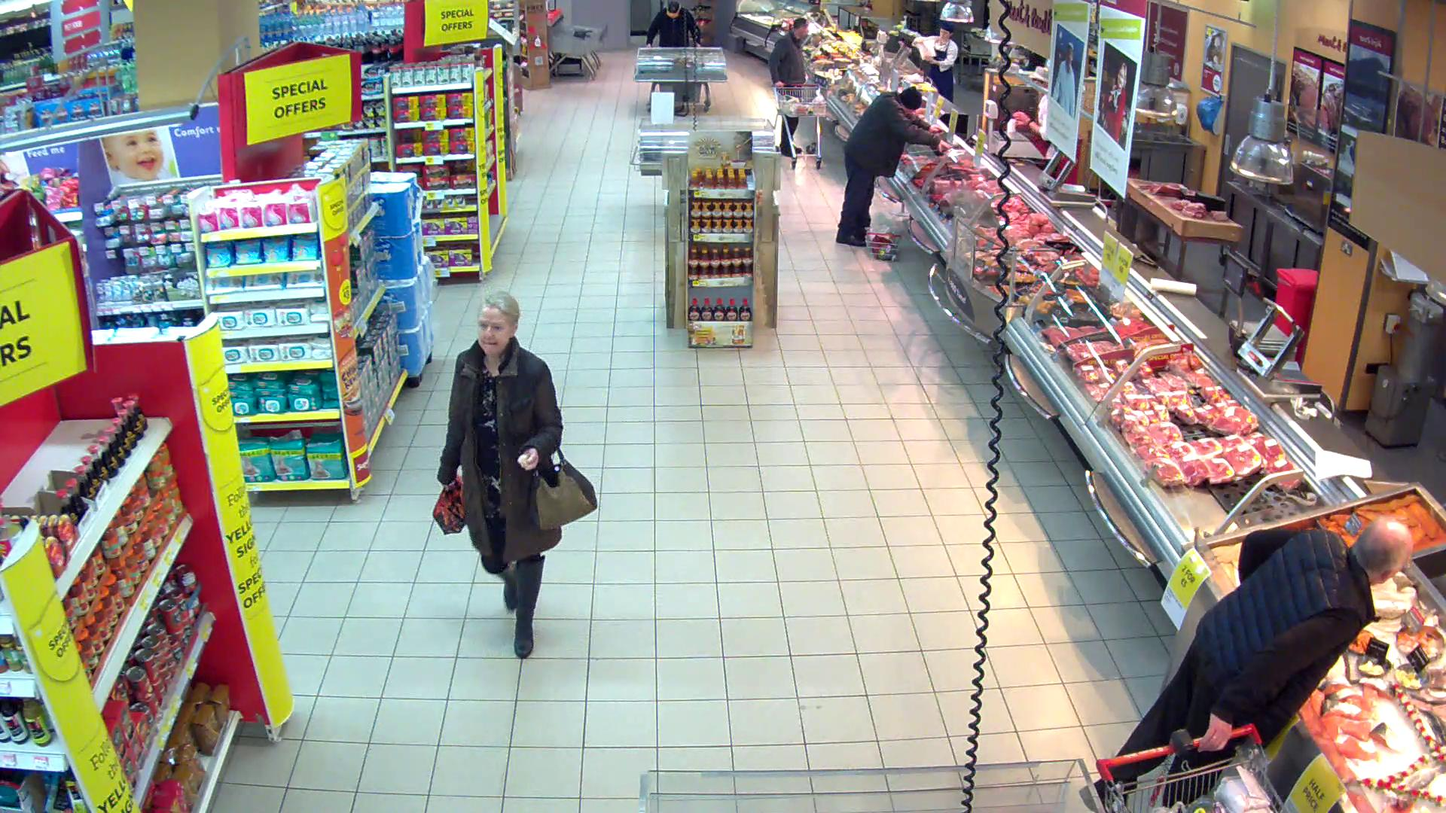backpack-or-handbag: (528, 452, 597, 531)
carrying-item: (433, 477, 473, 537)
filled-trolly: (773, 83, 827, 168)
person: (436, 291, 562, 656), (770, 18, 809, 156)
person-with-backpack-handbag-and-carrying-item-s-: (432, 291, 597, 656)
person-with-filled-basket-trolly: (770, 18, 827, 169)
